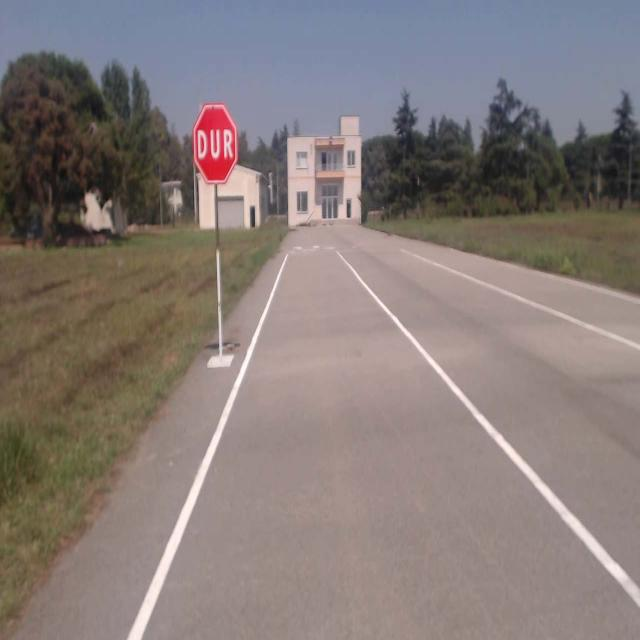dur: (194, 103, 238, 184)
